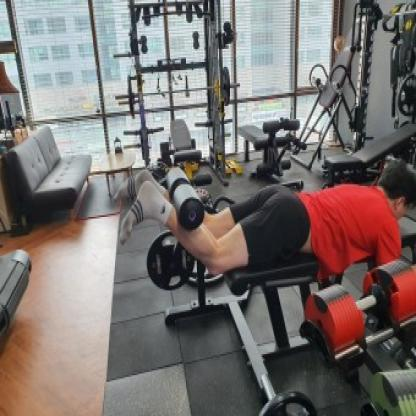reg curl machine: (110, 145, 416, 391)
